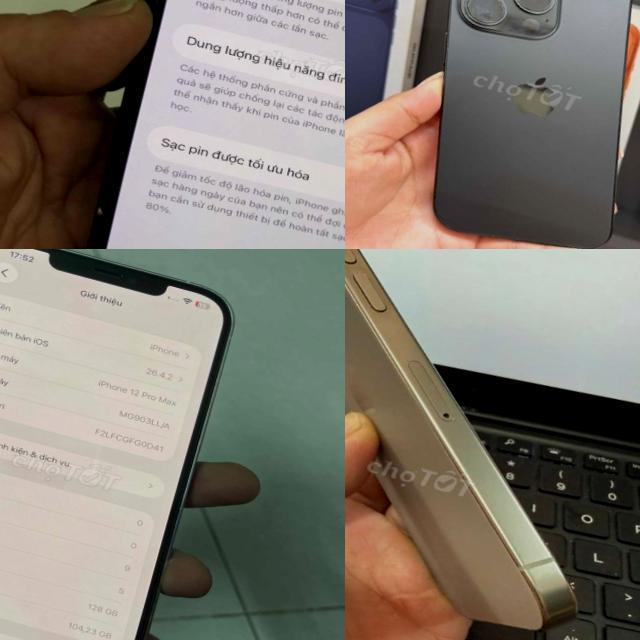gen_12_13: (0, 249, 257, 640), (41, 0, 345, 249)
gen_15: (388, 0, 640, 249)
gen_16: (345, 249, 640, 640)
